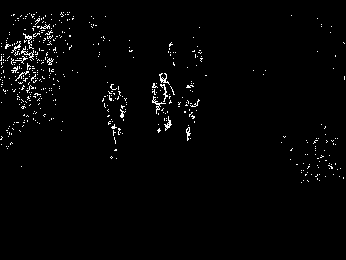person: (99, 81, 128, 154), (150, 71, 174, 134), (178, 80, 200, 143)
